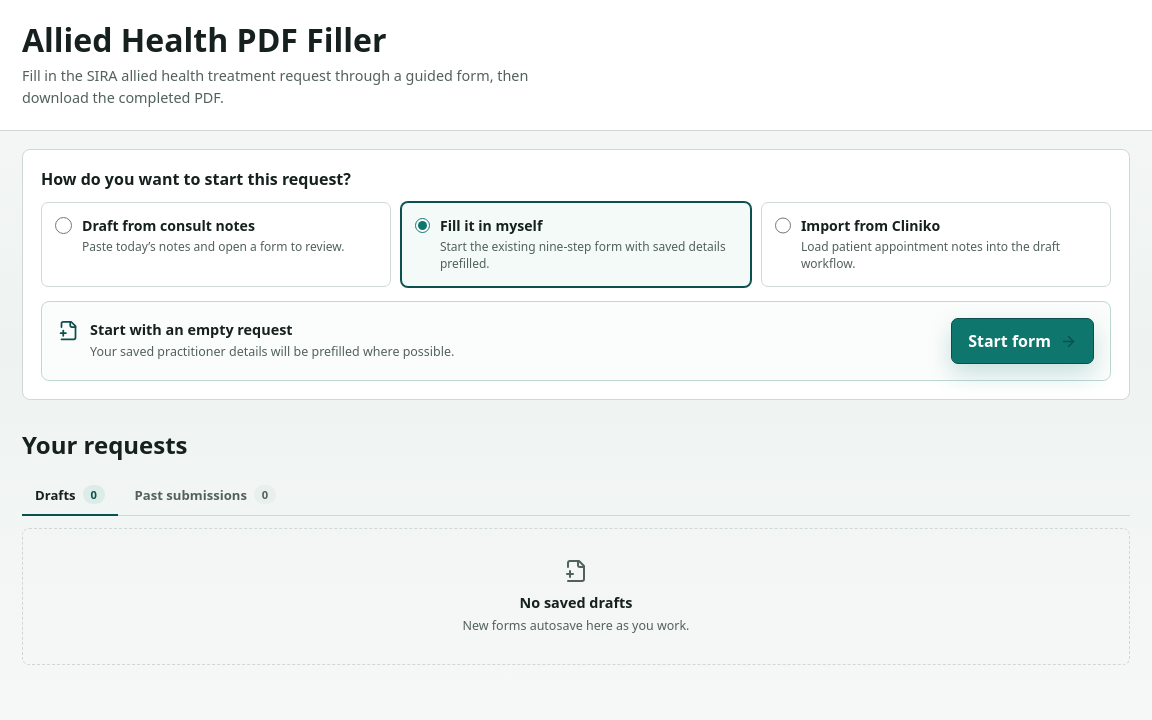
Test: HomeScreen saved requests › shows a separate empty state for each request tab
The image size is (1152, 720).
Expected: the heading "No saved drafts" is shown, x1=520 y1=593 x2=632 y2=612
Click the tab "Past submissions 0". click: (205, 496)
box: x1=122 y1=475 x2=289 y2=516
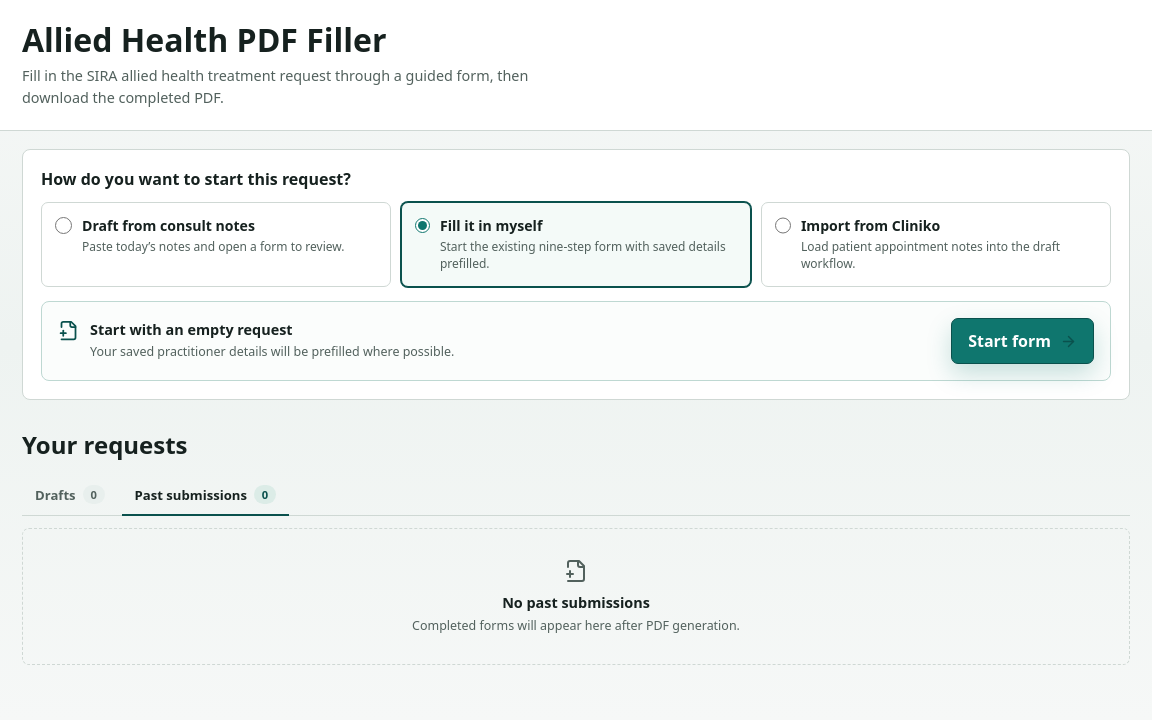
Now the heading "No past submissions" is shown, box x1=502 y1=593 x2=650 y2=612
